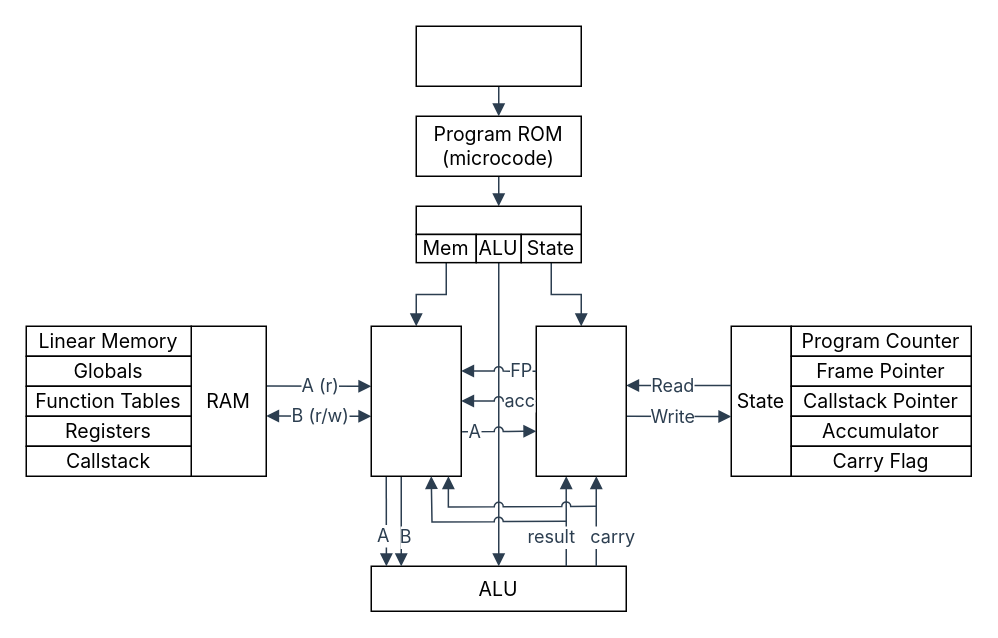
Some shapes in this 998 by 638 pixel diagram are drawn without their labels. Each missing label, with the box of its shape:
Instruction: (415, 205, 581, 234)
Memory Interface: (370, 325, 461, 476)
State Interface: (535, 325, 626, 476)
WASM Module: (415, 25, 581, 86)
